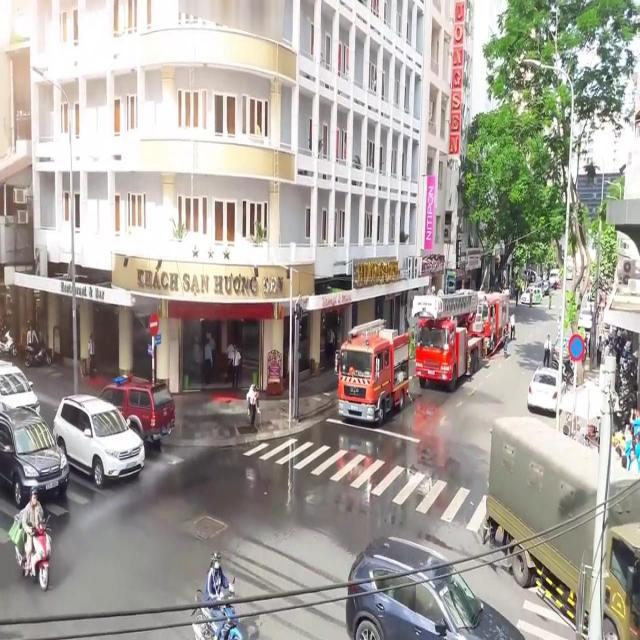car: (345, 536, 524, 640), (53, 394, 144, 487), (0, 405, 68, 506), (99, 373, 174, 439), (0, 358, 40, 412), (527, 365, 556, 409)
motorcycle: (190, 549, 242, 640), (13, 484, 51, 590)
truck: (487, 419, 640, 640), (334, 317, 408, 424), (412, 288, 483, 389)
